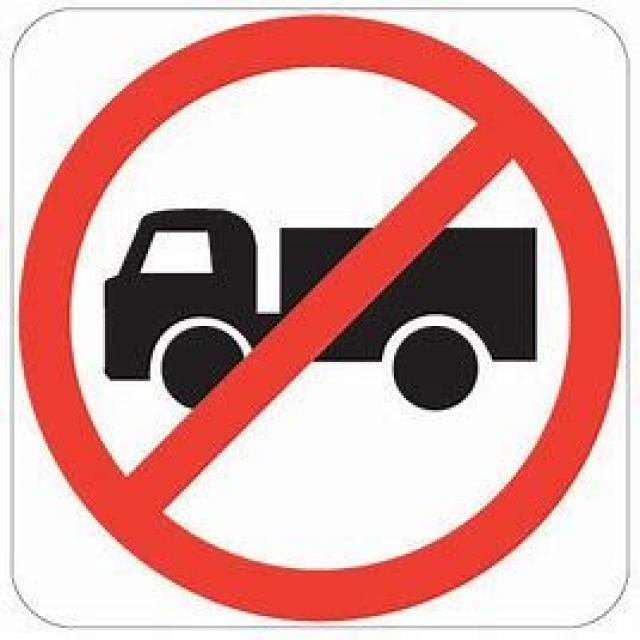TRUCK_PROHIBITED: (19, 12, 619, 618)
